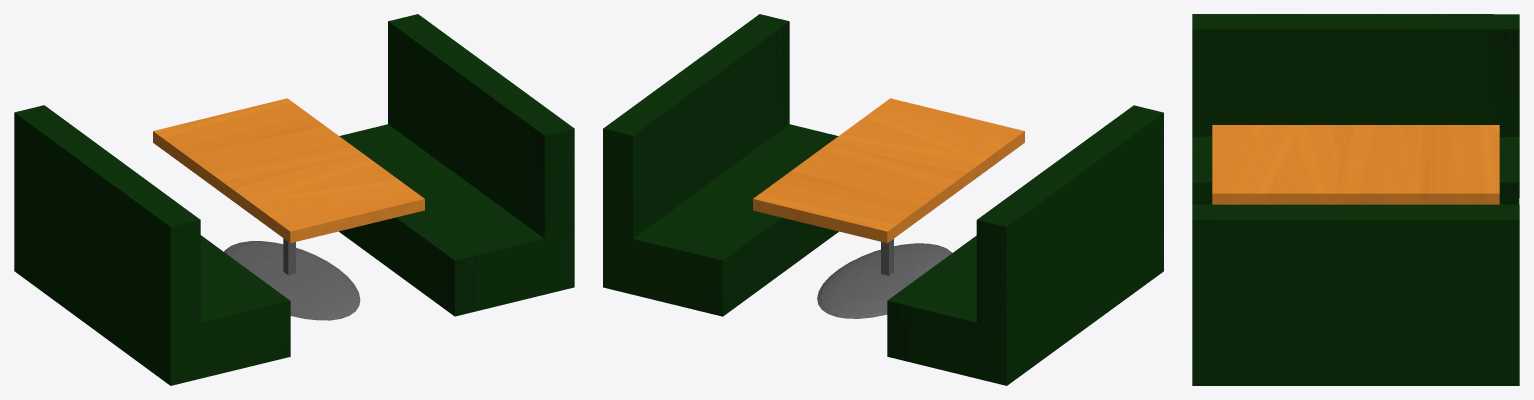
Rendered from booth.gltf.
The picture shows the model from 3 angles, left to right: view 1: azimuth 30°, elevation 25°; view 2: azimuth 150°, elevation 25°; view 3: azimuth 270°, elevation 25°; orthographic projection. The views are drawn at different scales.
Parts seen in each view (by area): view 1: Tables under carrage; view 2: Tables under carrage; view 3: Tables under carrage.
Part boxes in pixels (box(x1,y1,x2,y2)): Tables under carrage: box(14, 14, 574, 385); Tables under carrage: box(603, 14, 1163, 385); Tables under carrage: box(1192, 14, 1519, 385).
Bounding box in the file's own units: 41.02 × 15.57 × 27.56.
8 materials, 8 textured.
